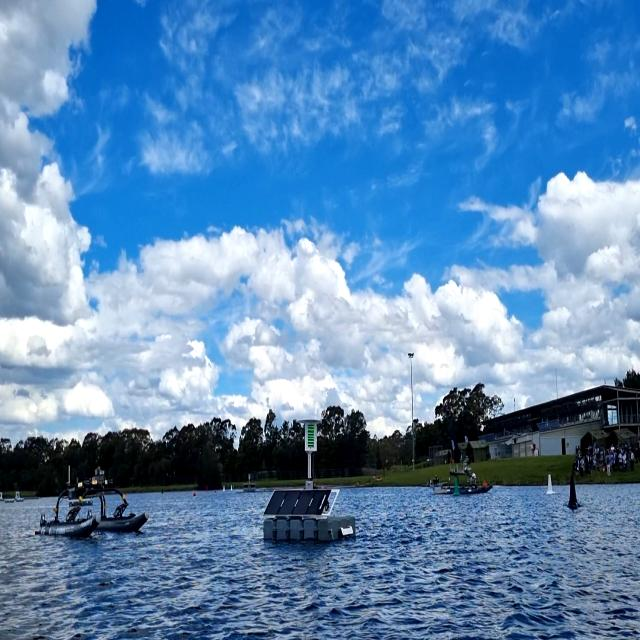led: (306, 423, 316, 449)
